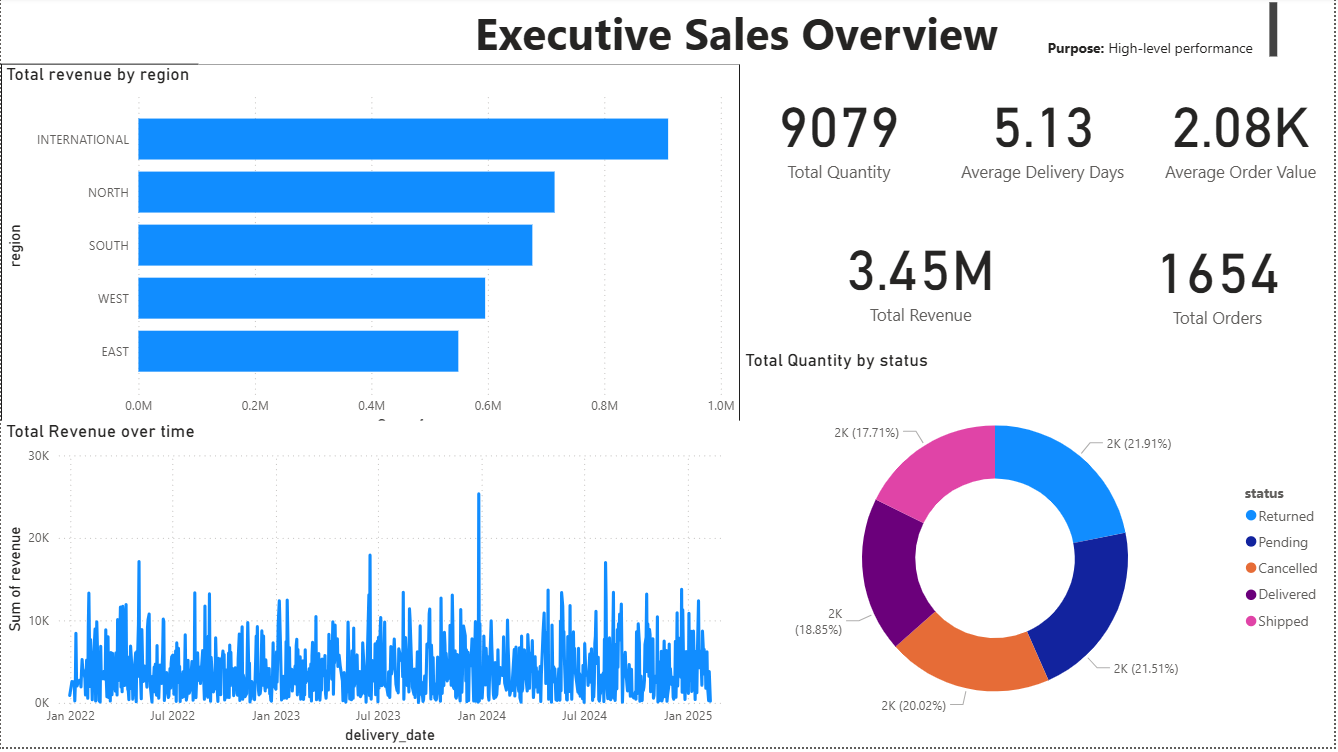

The page's visual inventory and layout, read from the dashboard file:
{"tool":"powerbi","page":{"name":"Page 1","canvas":[1280,720],"ordinal":0},"visuals":[{"type":"card","fields":{"Values":["gold fact_orders.Total Orders"]},"box":[1055.6,192.8,224.2,152.1],"z":0},{"type":"card","fields":{"Values":["gold fact_orders.Total Quantity"]},"box":[710.3,64.6,189.9,129.1],"z":1},{"type":"card","fields":{"Values":["gold fact_orders.Total Revenue"]},"box":[710.7,194.1,344.9,144.2],"z":2},{"type":"card","fields":{"Values":["gold fact_orders.Average Delivery Days"]},"box":[900.9,64.3,199.3,129.8],"z":3},{"type":"card","fields":{"Values":["gold fact_orders.Average Order Value"]},"box":[1100.3,64.6,179.8,129.1],"z":4},{"type":"barChart","title":"Total revenue by region","fields":{"Y":["Sum(gold fact_orders.revenue)"],"Category":["gold dim_customer.region"]},"box":[0,64.6,710.3,359.6],"z":5},{"type":"lineChart","title":"Total Revenue over time","fields":{"Y":["Sum(gold fact_orders.revenue)"],"Category":["gold fact_orders.delivery_date"]},"box":[0,406.4,710.3,314],"z":6},{"type":"donutChart","title":"Total Quantity by status","fields":{"Y":["Sum(gold fact_orders.quantity)"],"Category":["gold fact_orders.status"]},"box":[710.3,338.1,569.8,382.4],"z":7},{"type":"textbox","box":[189.9,0,1040.8,64.6],"z":8},{"type":"textbox","box":[1000.5,34.1,216.4,30.2],"z":9}]}

Visuals, with their boxes in screenshot pixels (x1, y1, x2, y2), scaled from the page's 1280x720 canvas onto the 1338x752 screenshot:
card - gold fact_orders.Total Orders: pyautogui.locateOnScreen(1103, 201, 1337, 360)
card - gold fact_orders.Total Quantity: pyautogui.locateOnScreen(742, 67, 941, 202)
card - gold fact_orders.Total Revenue: pyautogui.locateOnScreen(743, 203, 1103, 353)
card - gold fact_orders.Average Delivery Days: pyautogui.locateOnScreen(942, 67, 1150, 203)
card - gold fact_orders.Average Order Value: pyautogui.locateOnScreen(1150, 67, 1337, 202)
"Total revenue by region" barChart: pyautogui.locateOnScreen(0, 67, 742, 443)
"Total Revenue over time" lineChart: pyautogui.locateOnScreen(0, 424, 742, 751)
"Total Quantity by status" donutChart: pyautogui.locateOnScreen(742, 353, 1337, 751)
textbox: pyautogui.locateOnScreen(199, 0, 1286, 67)
textbox: pyautogui.locateOnScreen(1046, 36, 1272, 67)
